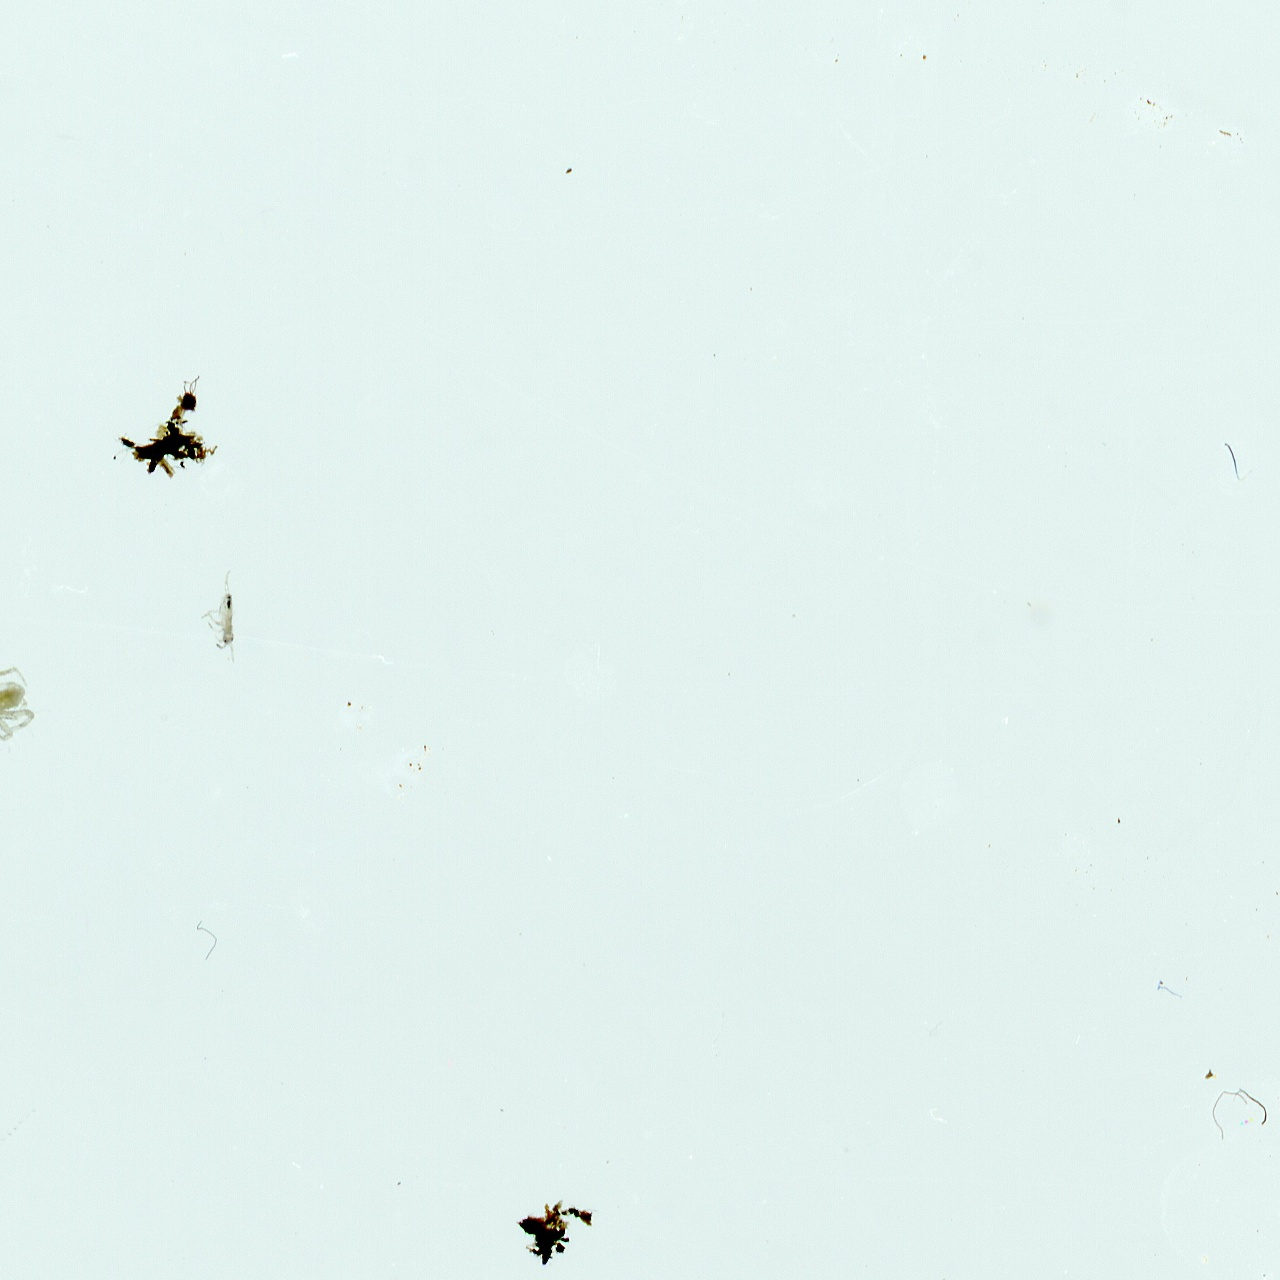arthropod: (197, 565, 239, 667), (0, 661, 41, 753)
